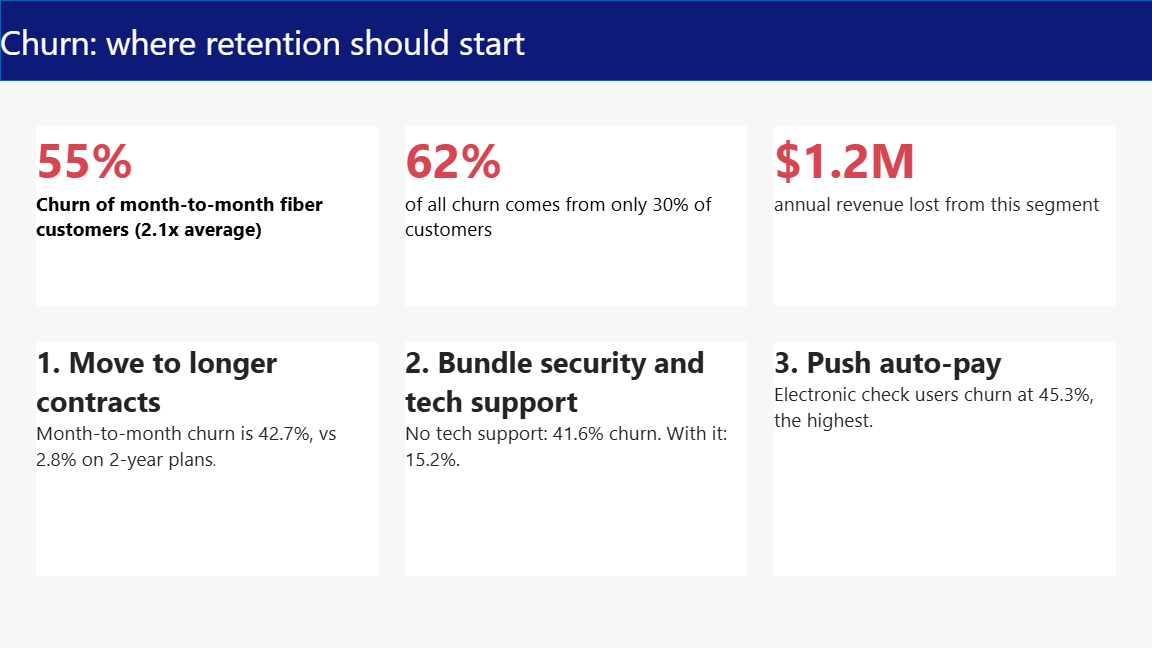

What the dashboard file says about the page in this screenshot:
{"tool":"powerbi","page":{"name":"Page 3","canvas":[1280,720],"ordinal":2},"visuals":[{"type":"shape","box":[0,0,1280.1,90.7],"z":0},{"type":"textbox","box":[40,140,380,200],"z":1000},{"type":"textbox","box":[450,140,380,200],"z":2000},{"type":"textbox","box":[860,140,380,200],"z":3000},{"type":"textbox","box":[40,380,380,260],"z":4000},{"type":"textbox","box":[450,380,380,260],"z":5000},{"type":"textbox","box":[860,380,380,260],"z":6000}]}

Visuals, with their boxes in screenshot pixels (x1, y1, x2, y2), scaled from the page's 1280x720 canvas onto the 1152x648 screenshot:
shape: left=0, top=0, right=1151, bottom=82
textbox: left=36, top=126, right=378, bottom=306
textbox: left=405, top=126, right=747, bottom=306
textbox: left=774, top=126, right=1116, bottom=306
textbox: left=36, top=342, right=378, bottom=576
textbox: left=405, top=342, right=747, bottom=576
textbox: left=774, top=342, right=1116, bottom=576
